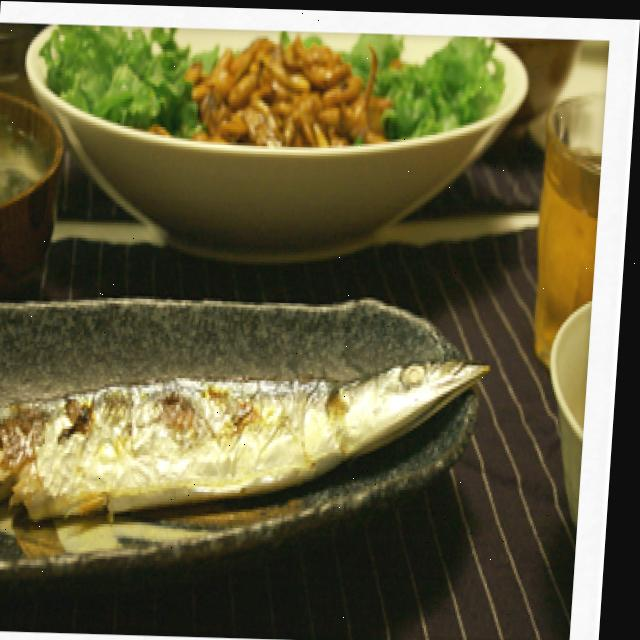熟制海鲜: (0, 286, 537, 534)
